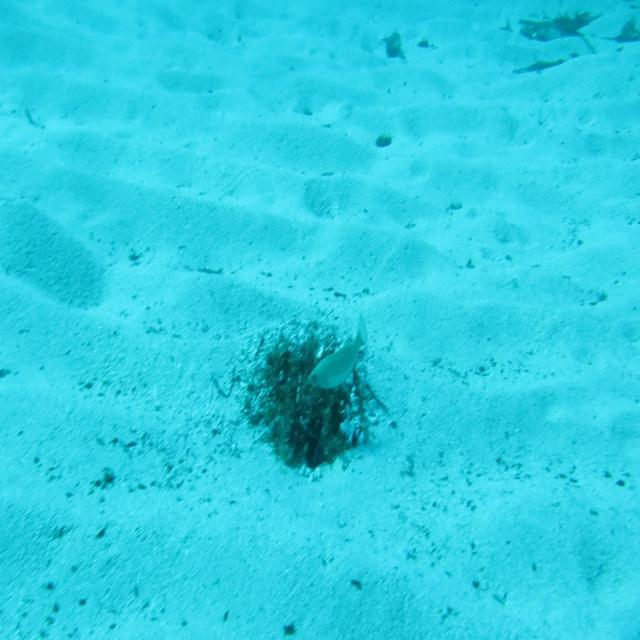LAND: (298, 307, 375, 401)
core_nest: (276, 354, 325, 394)
nest: (239, 300, 390, 485)
vegetation: (490, 0, 639, 40)
